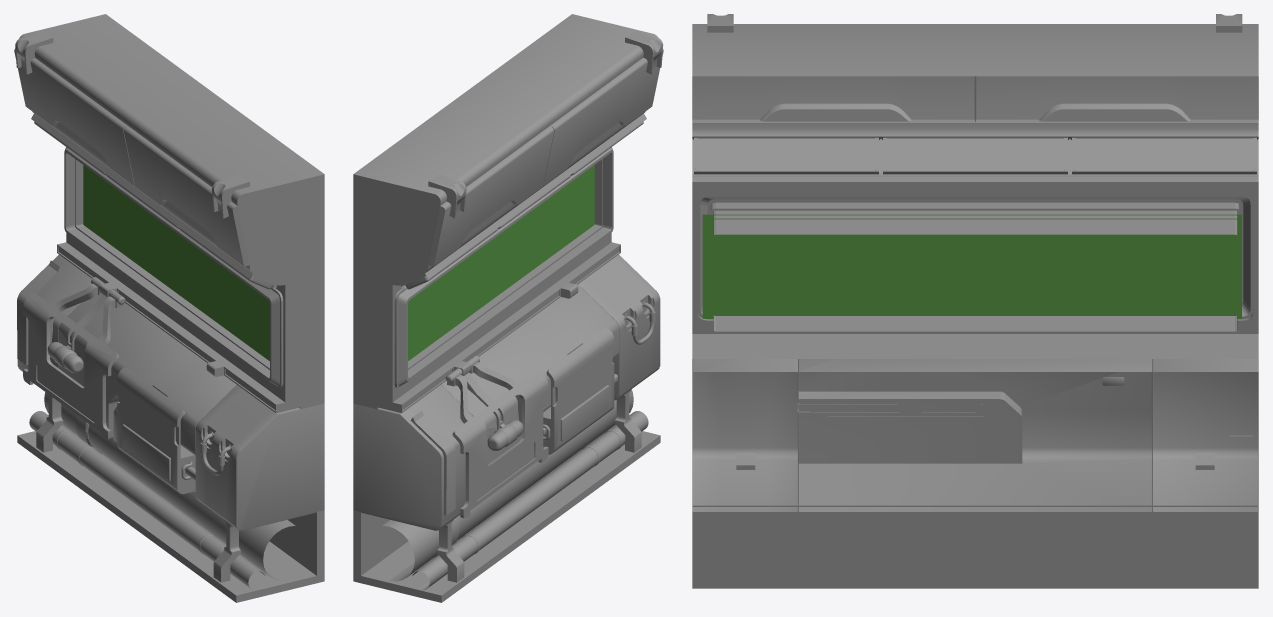
The model's file is SM_window_1.FBX.
The picture shows the model from 3 angles, left to right: view 1: azimuth 30°, elevation 25°; view 2: azimuth 150°, elevation 25°; view 3: azimuth 270°, elevation 25°; orthographic projection. The views are drawn at different scales.
Visible parts, largest first — view 1: window_low; view 2: window_low; view 3: window_low.
Boxes of the visible parts, left/top/right/bottom form: window_low: left=14, top=14, right=324, bottom=602; window_low: left=353, top=14, right=663, bottom=602; window_low: left=692, top=14, right=1258, bottom=588.
Bounding box in the file's own units: 0.8252 × 3.12 × 3.
